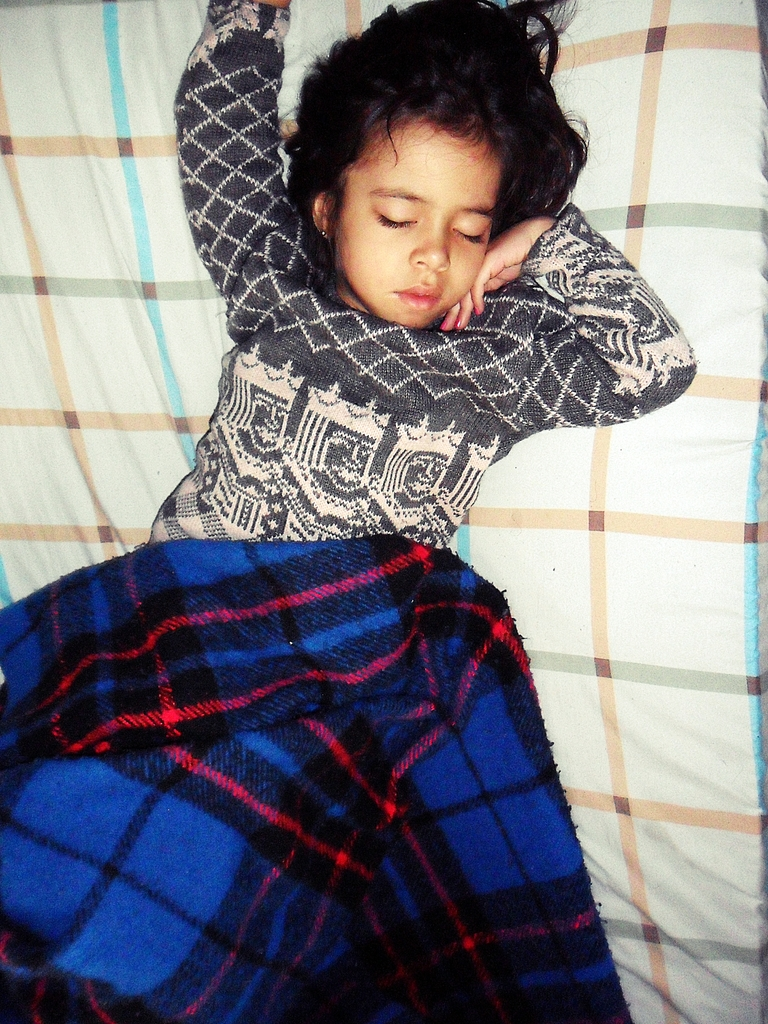face: (342, 108, 500, 333)
